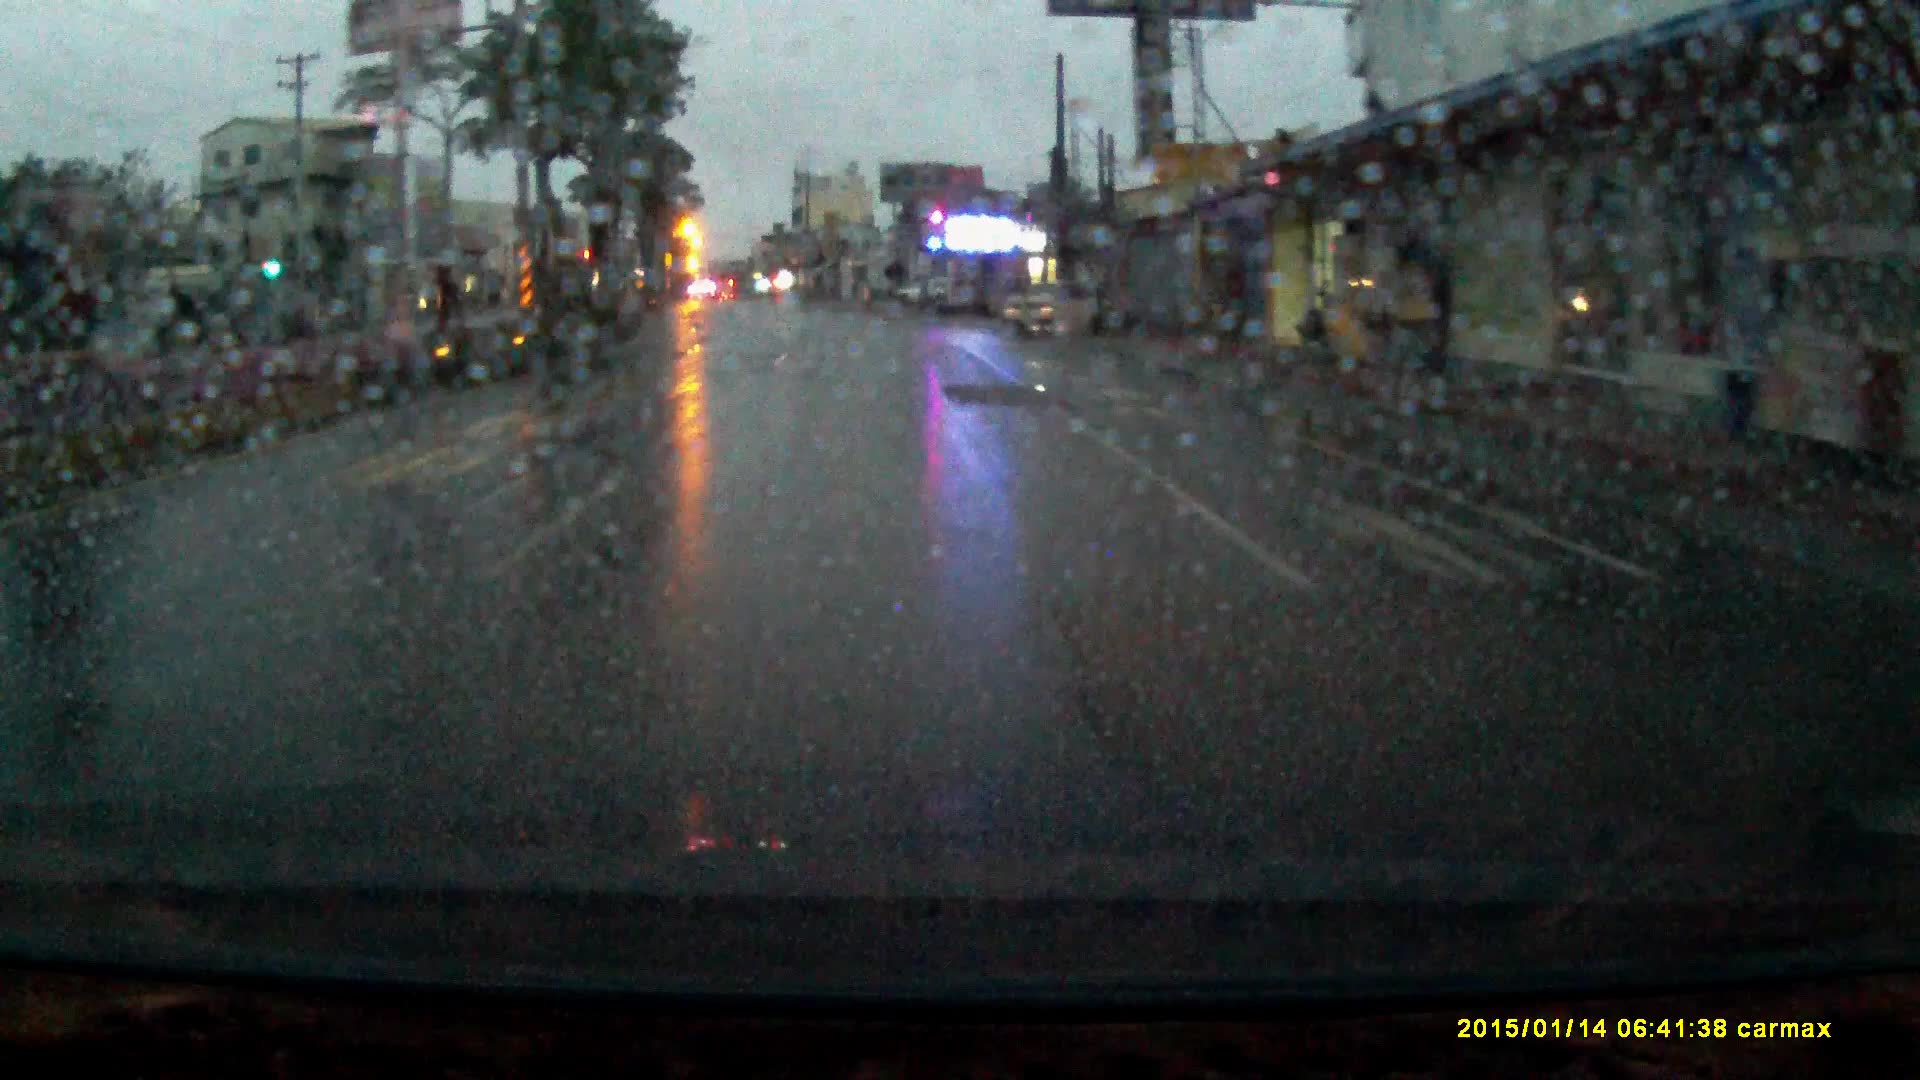vehicle: (1004, 287, 1097, 344), (895, 285, 949, 313)
